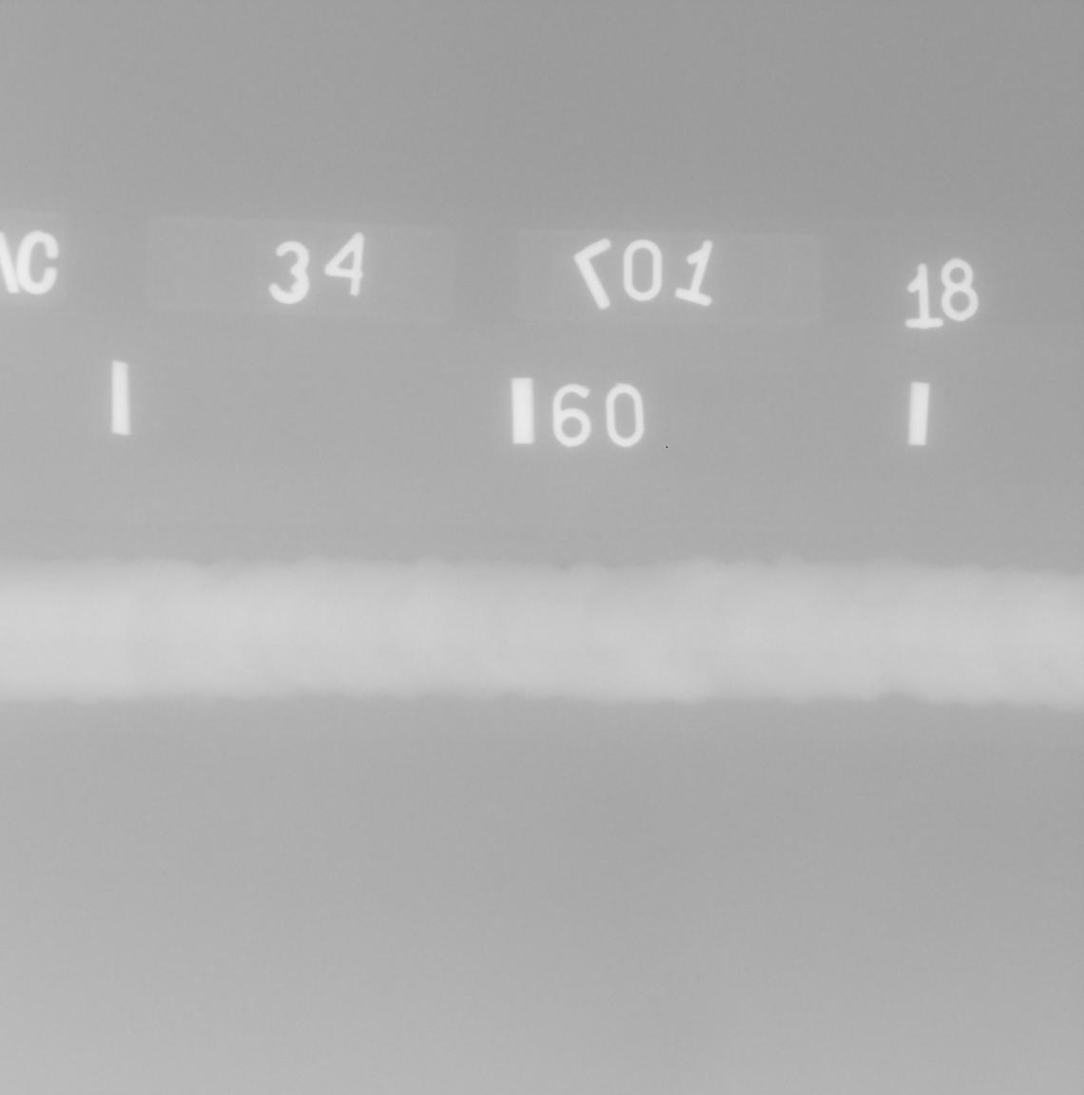Pore/Porosity: (781, 651, 786, 656), (206, 600, 210, 605)
